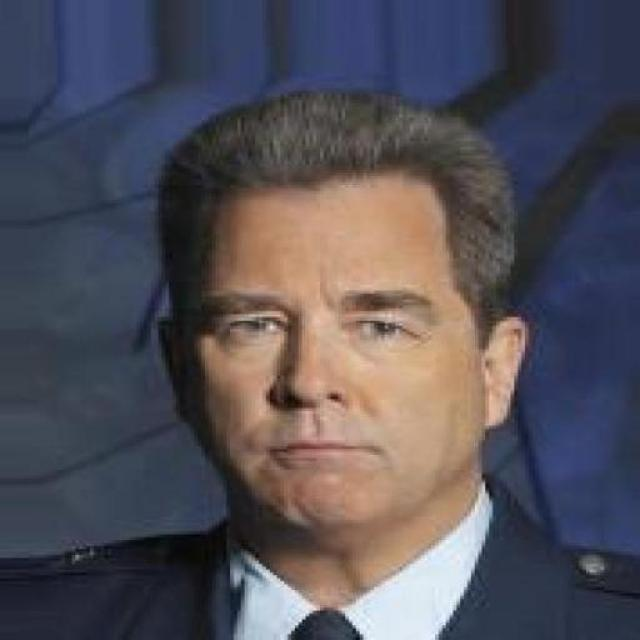bareface: (195, 95, 510, 529)
